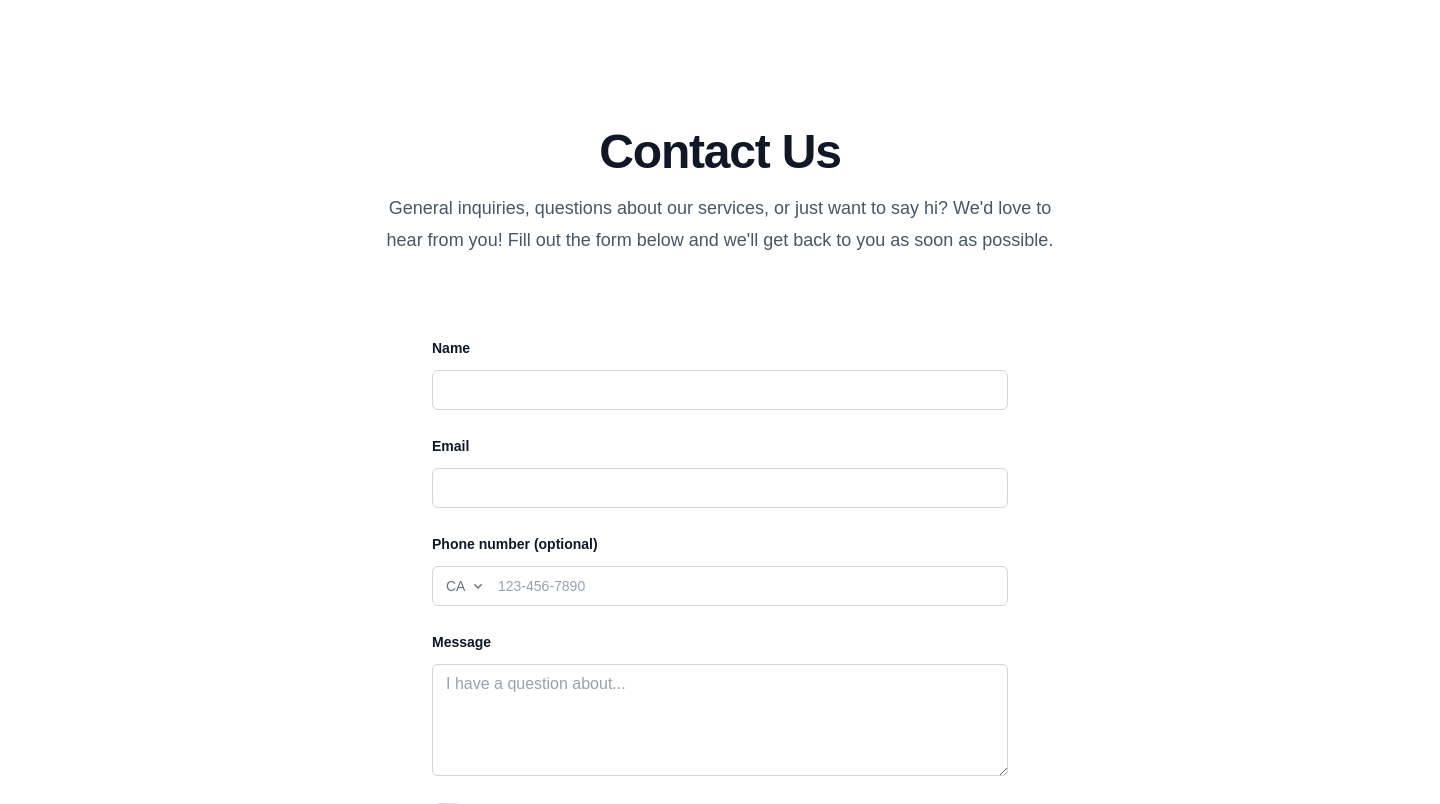
Scenario: Contact Form UI › shows error message when submission fails
Step 1. Type "John Smith" into the field labelled "Name" → (720, 390), box [432, 370, 1008, 410]
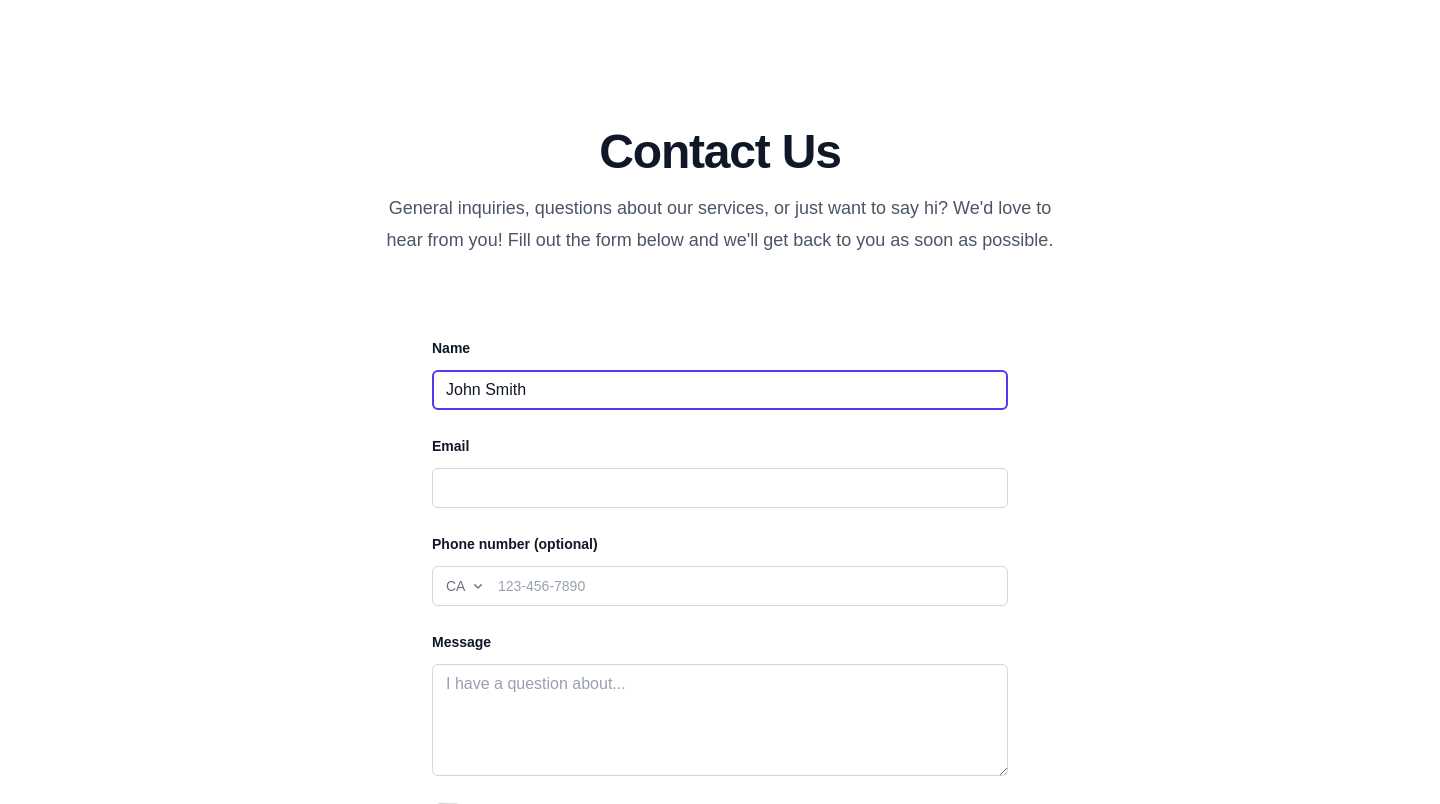
Step 2. Type "john@example.com" into the field labelled "Email" → (720, 488), box [432, 468, 1008, 508]
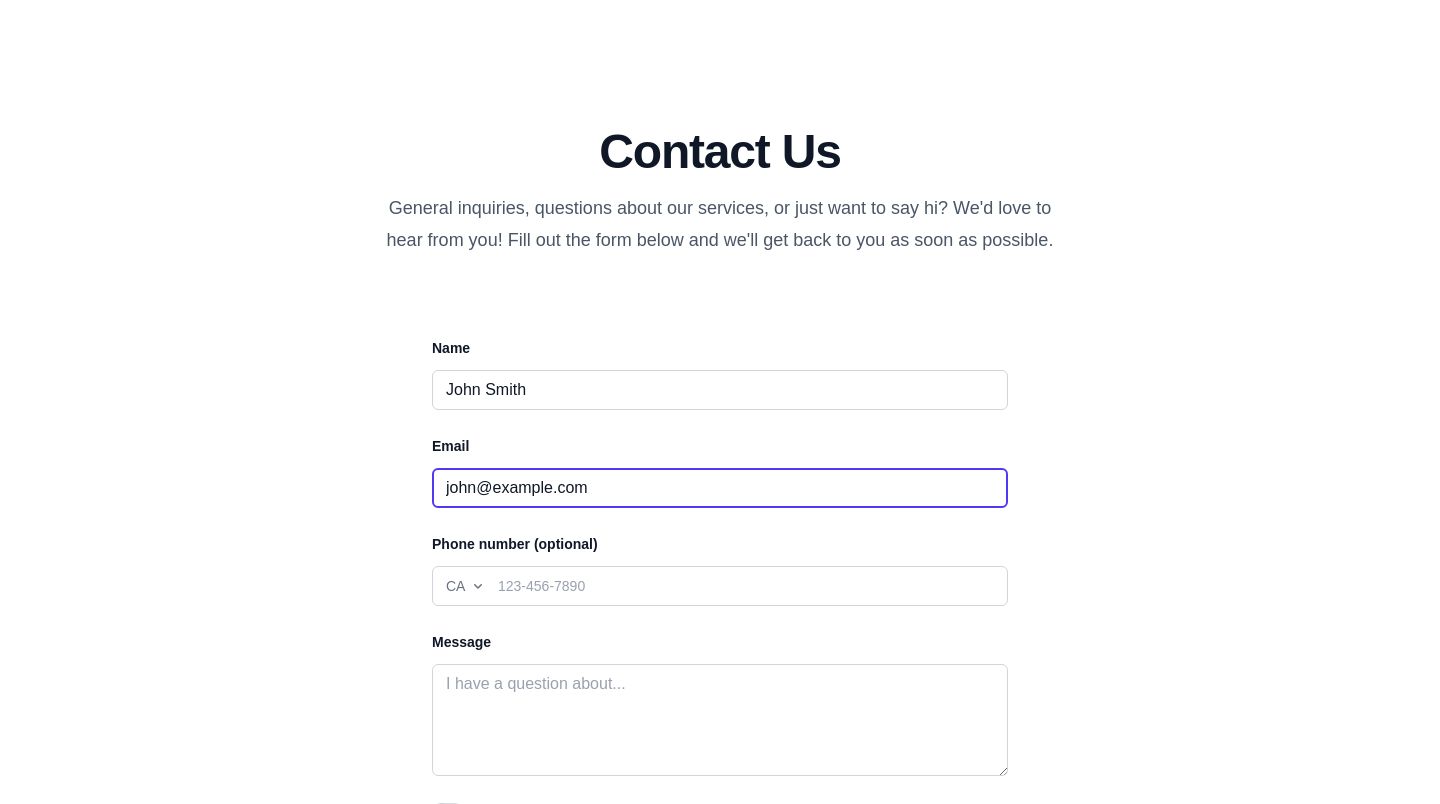
Step 3. Type "Test message" into the text box labelled "Message" → (720, 720), box [432, 664, 1008, 776]
(page scrolled)
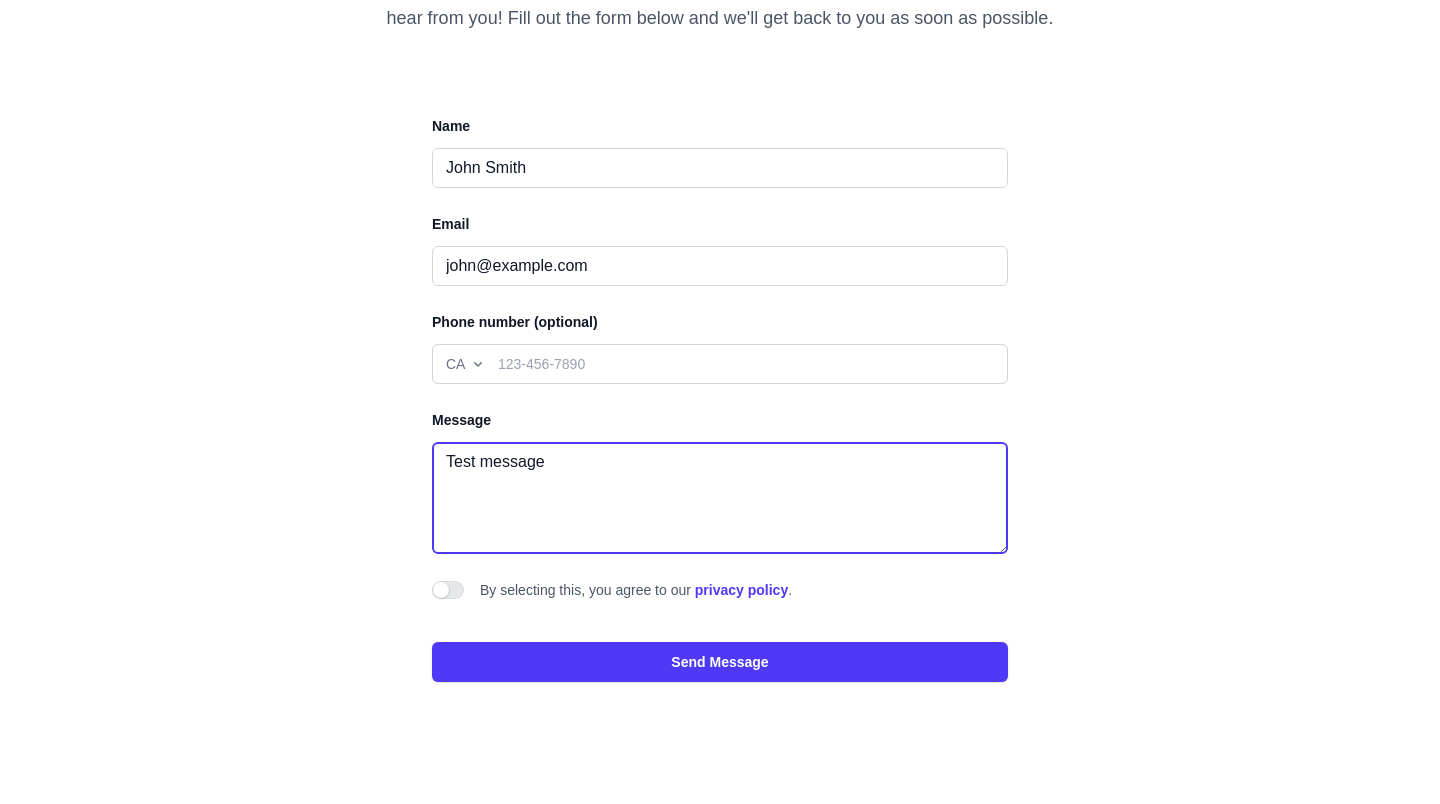
Step 4. Click the button "Send Message" → (720, 662), box [432, 642, 1008, 682]
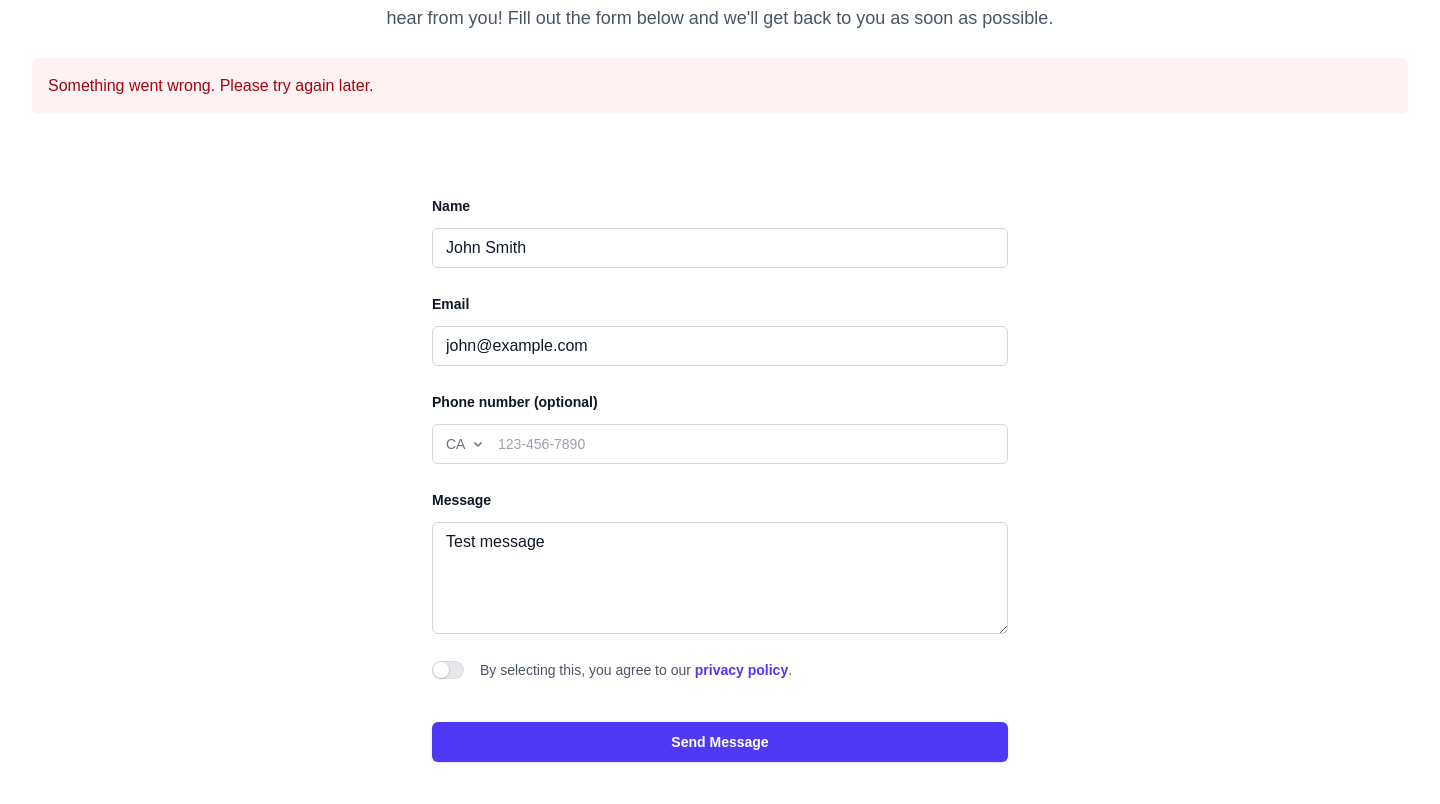
Expected: the text "Something went wrong. Please try again later." is shown, [32, 58, 1408, 114]
